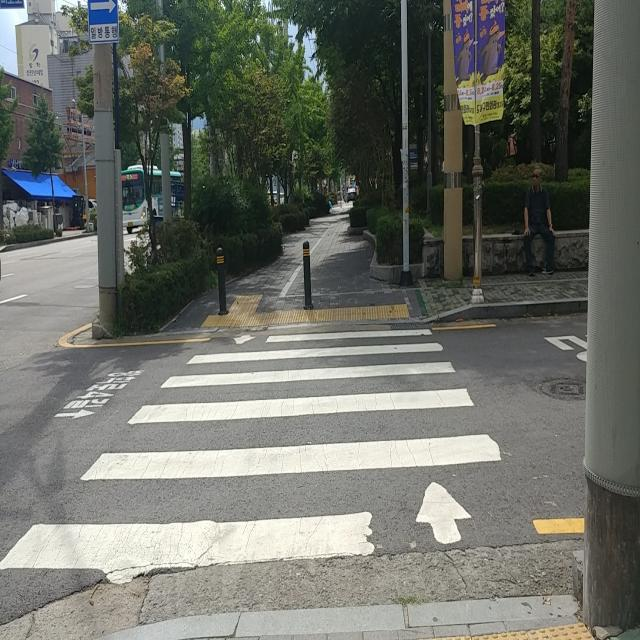횡단보도: (1, 328, 504, 573)
